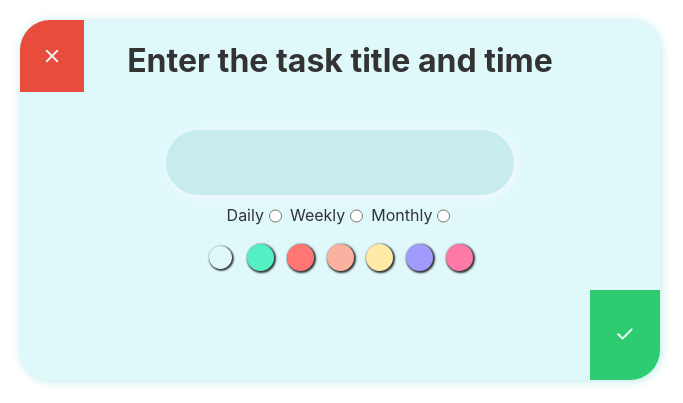
Test case: AddModal › shows error when submitting with empty input
What coordinates should you click on to do the following:
click the 2nd button
I would click on:
 (625, 335)
Its box is [590,290,660,380].
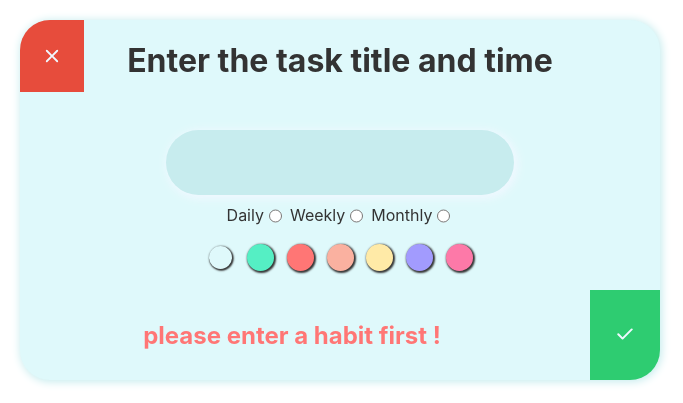
expect the heading "please enter a habit first !" is shown: met, box [143,320,441,350]
